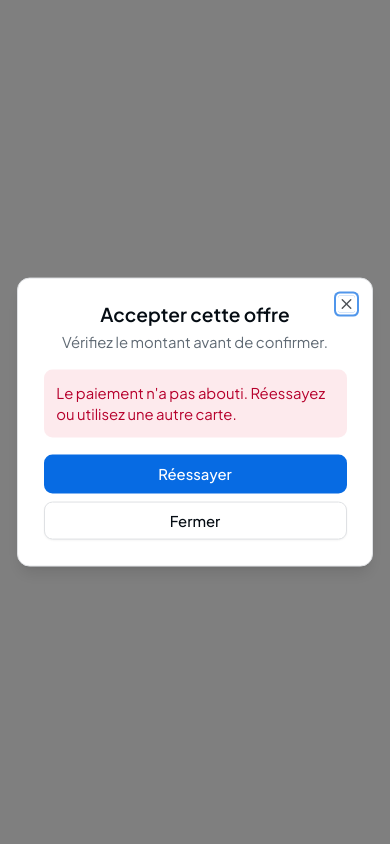
AcceptPaymentDialog — a quote that cannot be given › asks again when the quote failed for no reason it can name
The width and height of the screenshot is (390, 844).
Click the button "Réessayer".
click(195, 474)  # box [44,455,346,493]
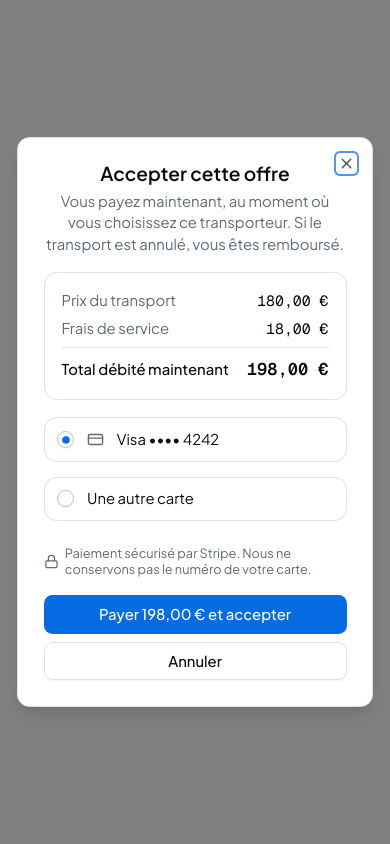
Check: the button "Payer 198,00 € et accepter" is shown, box [44,596,346,634]
